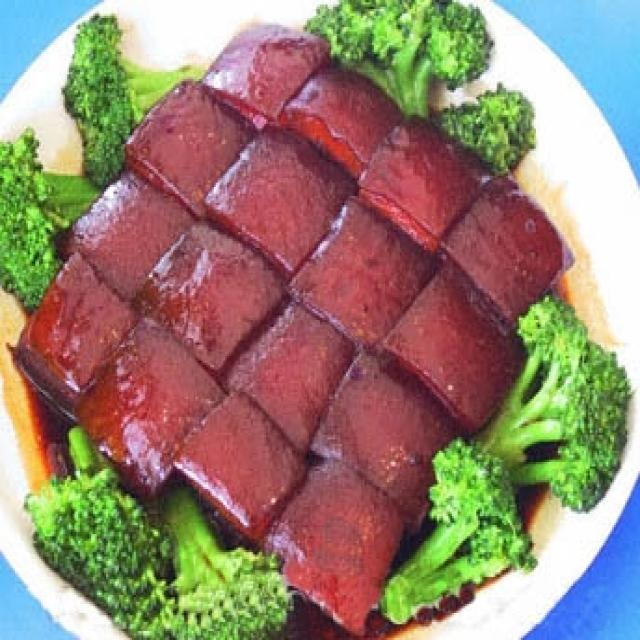牛肉菜式: (13, 29, 601, 608)
